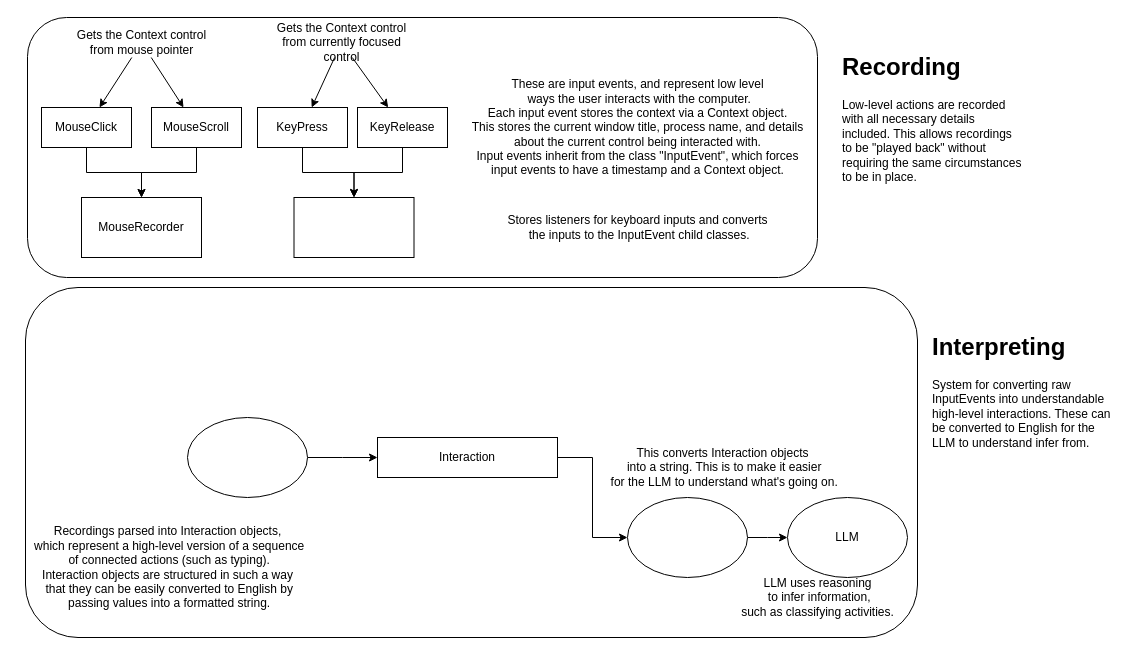
Image size: 1134x655. Some labels were removed from this diagram. The shapes that lost their labels are listed below. From the top down, each one's box as (x1, y1, x2, y2) in pixels, then its label:
(293, 196, 414, 258): KeyboardRecorder
(186, 416, 308, 498): Hardcoded interpretation into high-level actions.
(626, 496, 748, 578): Hardcoded interpretation into English
